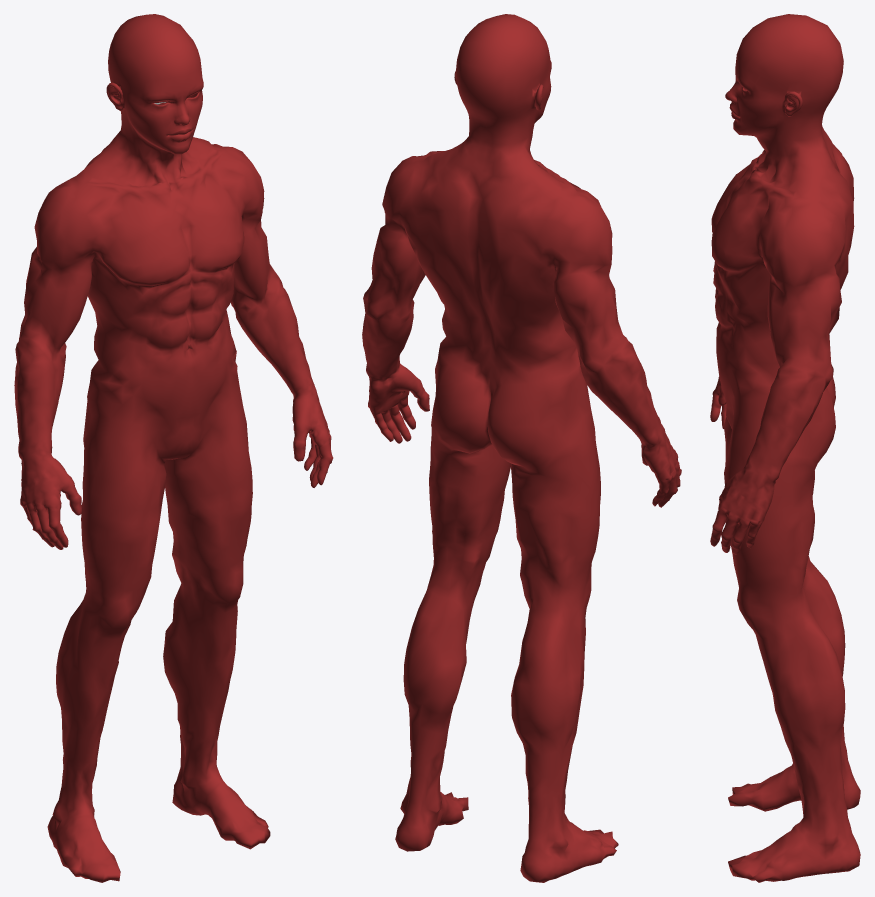
The model's file is Human-002.fbx.
The picture shows the model from 3 angles, left to right: view 1: azimuth 30°, elevation 25°; view 2: azimuth 150°, elevation 25°; view 3: azimuth 270°, elevation 25°; orthographic projection.
Parts seen in each view (by area): view 1: 人物; view 2: 人物; view 3: 人物.
Part boxes in pixels (<box>): 人物: <box>14,14,333,882</box>; 人物: <box>362,14,681,882</box>; 人物: <box>710,14,860,882</box>.
Size of the model in its own units: 110 by 289 by 47.69.
